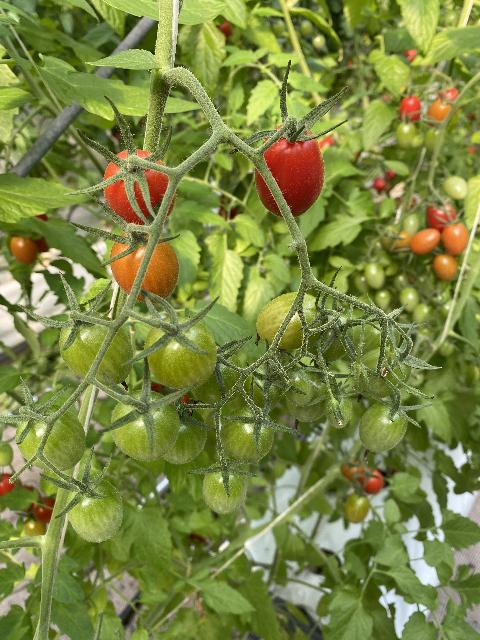l_fully_ripened: (253, 124, 325, 218), (102, 148, 177, 233)
l_green: (59, 310, 134, 388), (144, 315, 218, 390), (15, 404, 87, 473), (111, 388, 179, 461), (64, 477, 124, 543), (189, 345, 245, 409), (220, 405, 276, 465), (284, 366, 338, 422), (353, 348, 412, 399), (160, 406, 208, 465), (302, 312, 355, 363), (358, 400, 408, 453), (201, 459, 248, 514), (235, 363, 284, 414), (349, 318, 399, 363), (283, 370, 315, 408), (325, 391, 352, 428)
l_half_ripened: (109, 228, 180, 305), (256, 292, 326, 351)
